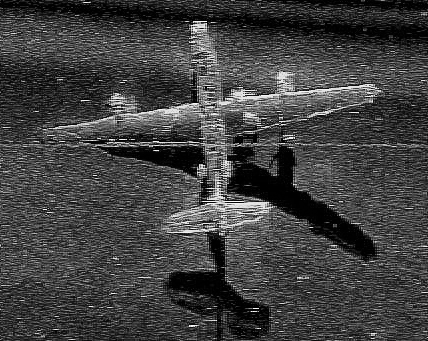plane: (56, 24, 380, 233)
